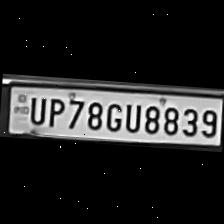3: (178, 103, 198, 136)
7: (62, 95, 84, 130)
8: (82, 96, 104, 130), (159, 101, 180, 135), (140, 100, 160, 134)
9: (196, 104, 218, 136)
G: (102, 98, 122, 132)
P: (42, 93, 66, 127)
U: (25, 92, 47, 124), (122, 98, 142, 132)
